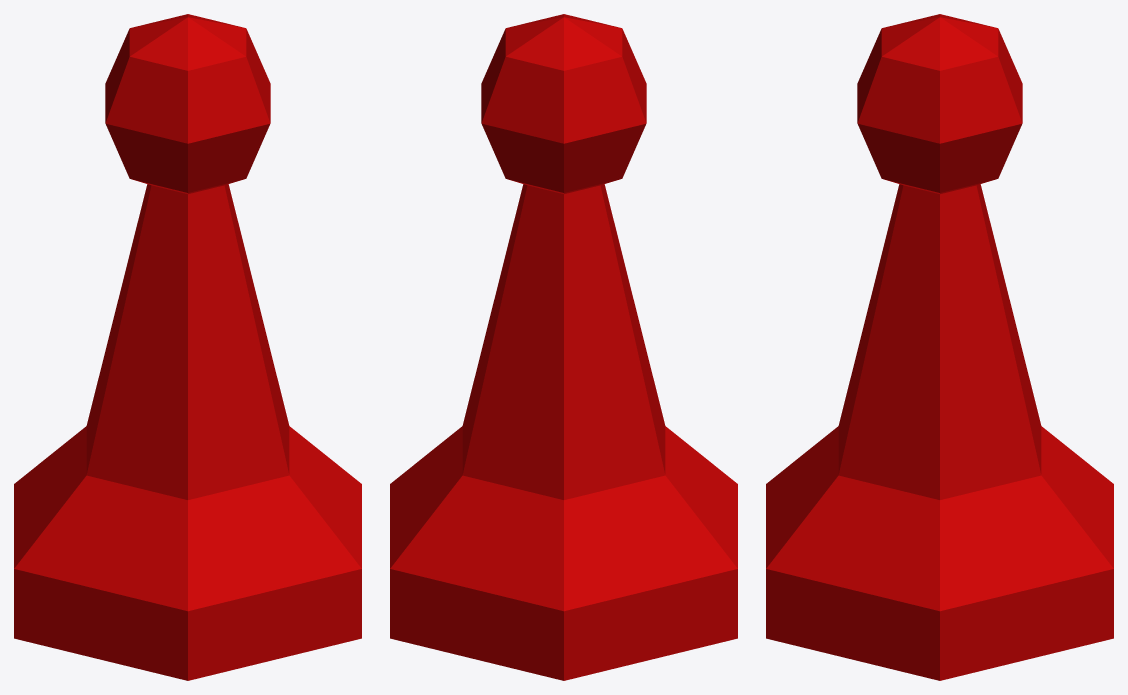
Rendered from Boardgame_Player_Piece_General_Red_01.fbx.
The picture shows the model from 3 angles, left to right: view 1: azimuth 30°, elevation 25°; view 2: azimuth 150°, elevation 25°; view 3: azimuth 270°, elevation 25°; orthographic projection.
Visible parts, largest first — view 1: Model; view 2: Model; view 3: Model.
Boxes of the visible parts, bbox=[...] form: Model: bbox=[14, 14, 361, 680]; Model: bbox=[390, 14, 737, 680]; Model: bbox=[766, 14, 1113, 680].
Size of the model in its own units: 187 by 297 by 162.
